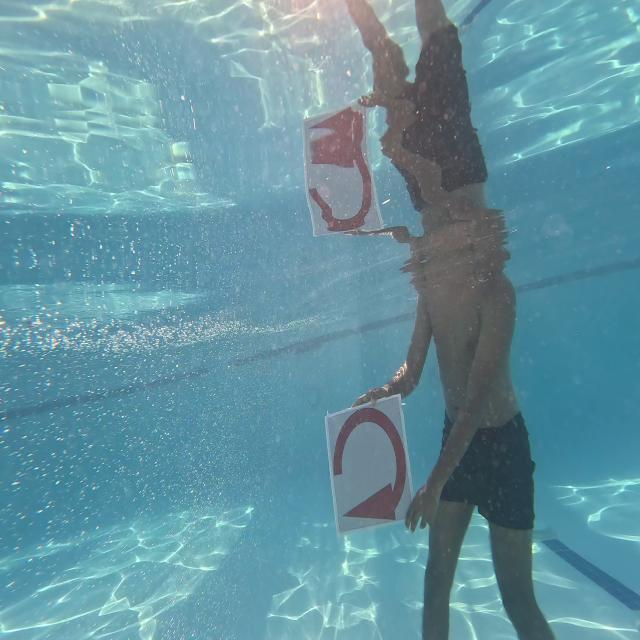red_side: (319, 395, 417, 539)
